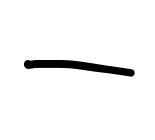minus: (24, 59, 134, 80)
